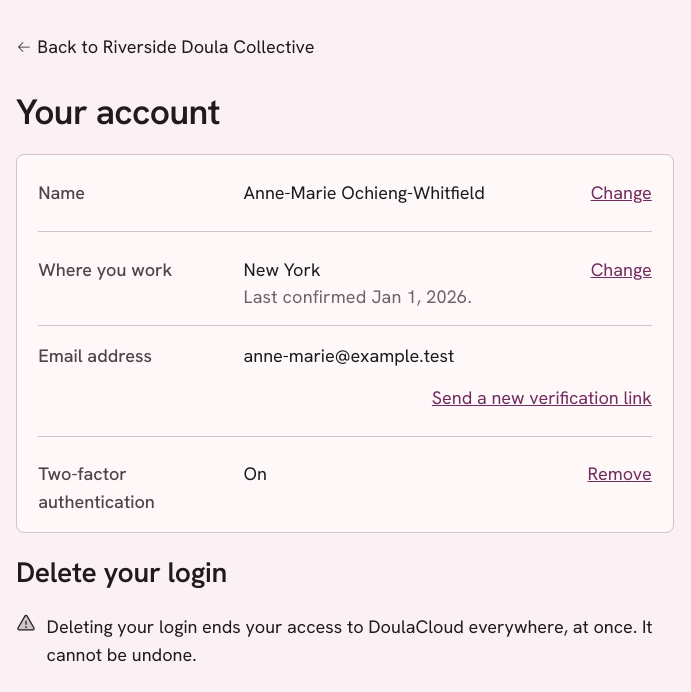
Test case: removing a second factor (#606) › challenges for a code, since the identity already holds one enrolled
Click the button "Remove": (620,474) x1=588 y1=452 x2=652 y2=496
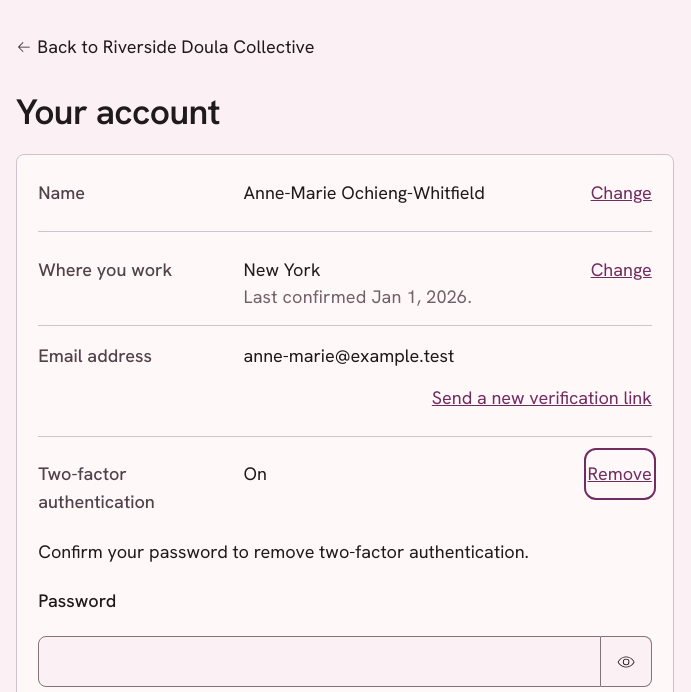
expect the password field labelled "Password" is shown: met
In the password field labelled "Password": (319,662) x1=38 y1=636 x2=601 y2=687, type "correct horse"
(page scrolled)
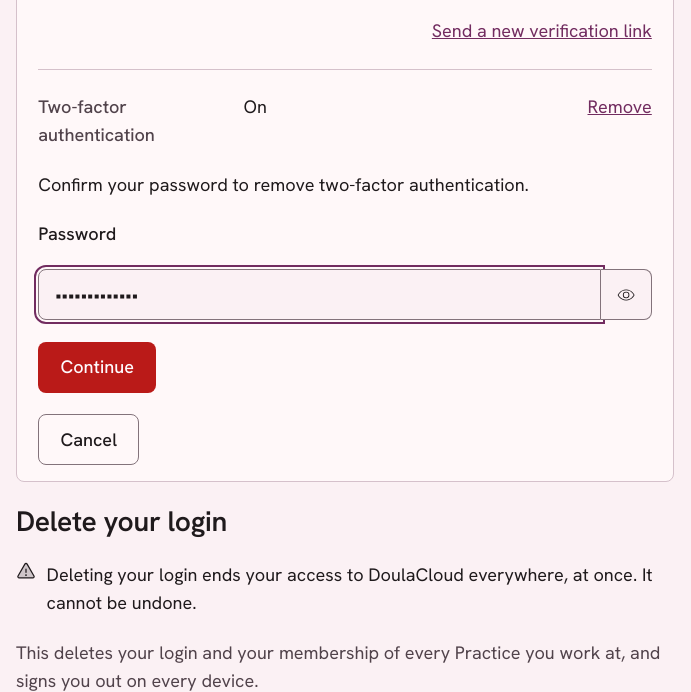
Click the button "Continue": (97,367) x1=38 y1=342 x2=156 y2=393
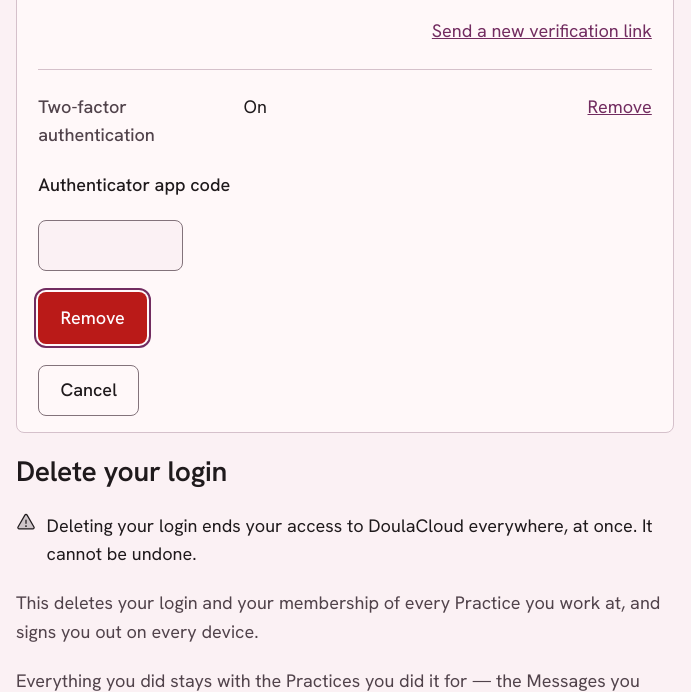
expect the field labelled "Authenticator app code" is shown: met, box x1=38 y1=220 x2=183 y2=271
